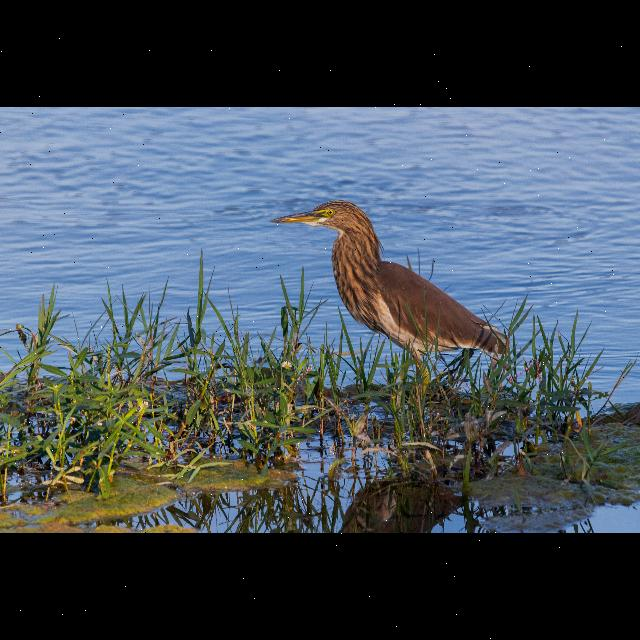heron: (268, 194, 512, 380)
